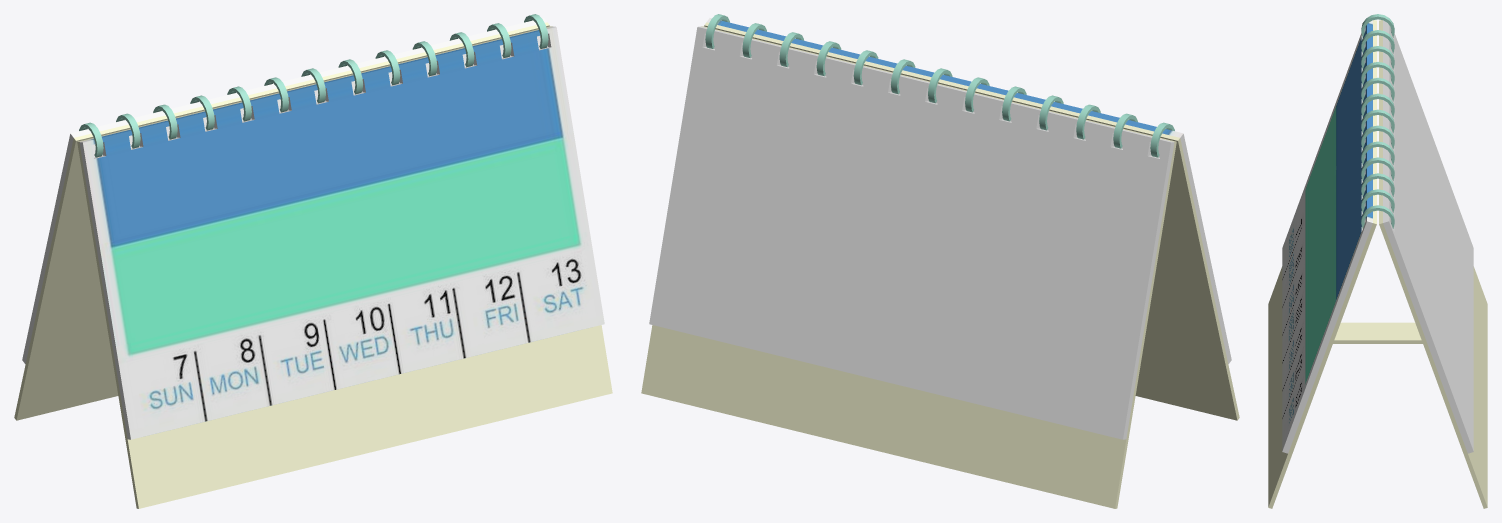
File: Calendar-8GqQAqxi3qk.glb
3 views of the same model, side by side, from view 1: azimuth 30°, elevation 25°; view 2: azimuth 150°, elevation 25°; view 3: azimuth 270°, elevation 25° (orthographic). The views are drawn at different scales.
Visible parts, largest first — view 1: Mesh2 Calendar_C01_1 Calendar_LowPoly1 Model, Mesh5 Calendar_C02_1 Calendar_LowPoly1 Model; view 2: Mesh5 Calendar_C02_1 Calendar_LowPoly1 Model, Mesh2 Calendar_C01_1 Calendar_LowPoly1 Model; view 3: Mesh5 Calendar_C02_1 Calendar_LowPoly1 Model, Mesh2 Calendar_C01_1 Calendar_LowPoly1 Model, Mesh15 Calendar_C03_13 Calendar_LowPoly1 Model, Mesh4 Calendar_C03_3 Calendar_LowPoly1 Model, Mesh9 Calendar_C03_7 Calendar_LowPoly1 Model, Mesh11 Calendar_C03_9 Calendar_LowPoly1 Model, Mesh14 Calendar_C03_12 Calendar_LowPoly1 Model, Mesh1 Calendar_C03_1 Calendar_LowPoly1 Model, Mesh3 Calendar_C03_2 Calendar_LowPoly1 Model, Mesh12 Calendar_C03_10 Calendar_LowPoly1 Model, Mesh13 Calendar_C03_11 Calendar_LowPoly1 Model, Mesh7 Calendar_C03_5 Calendar_LowPoly1 Model (+3 smaller).
Part boxes in pixels (x1,y1,x2,y2): Mesh2 Calendar_C01_1 Calendar_LowPoly1 Model: [77, 26, 612, 508]; Mesh5 Calendar_C02_1 Calendar_LowPoly1 Model: [14, 18, 549, 420]; Mesh5 Calendar_C02_1 Calendar_LowPoly1 Model: [641, 26, 1176, 508]; Mesh2 Calendar_C01_1 Calendar_LowPoly1 Model: [704, 18, 1239, 420]; Mesh5 Calendar_C02_1 Calendar_LowPoly1 Model: [1333, 20, 1487, 508]; Mesh2 Calendar_C01_1 Calendar_LowPoly1 Model: [1268, 20, 1376, 508]; Mesh15 Calendar_C03_13 Calendar_LowPoly1 Model: [1361, 205, 1394, 228]; Mesh4 Calendar_C03_3 Calendar_LowPoly1 Model: [1361, 14, 1394, 37]; Mesh9 Calendar_C03_7 Calendar_LowPoly1 Model: [1361, 125, 1394, 148]; Mesh11 Calendar_C03_9 Calendar_LowPoly1 Model: [1361, 77, 1394, 101]; Mesh14 Calendar_C03_12 Calendar_LowPoly1 Model: [1361, 109, 1394, 133]; Mesh1 Calendar_C03_1 Calendar_LowPoly1 Model: [1361, 189, 1394, 212]; Mesh3 Calendar_C03_2 Calendar_LowPoly1 Model: [1361, 173, 1394, 196]; Mesh12 Calendar_C03_10 Calendar_LowPoly1 Model: [1361, 62, 1394, 85]; Mesh13 Calendar_C03_11 Calendar_LowPoly1 Model: [1361, 157, 1394, 180]; Mesh7 Calendar_C03_5 Calendar_LowPoly1 Model: [1361, 30, 1394, 53].
Bounding box in the file's own units: 23 × 15.61 × 10.48.
Materials: 4 (1 with a texture image).
